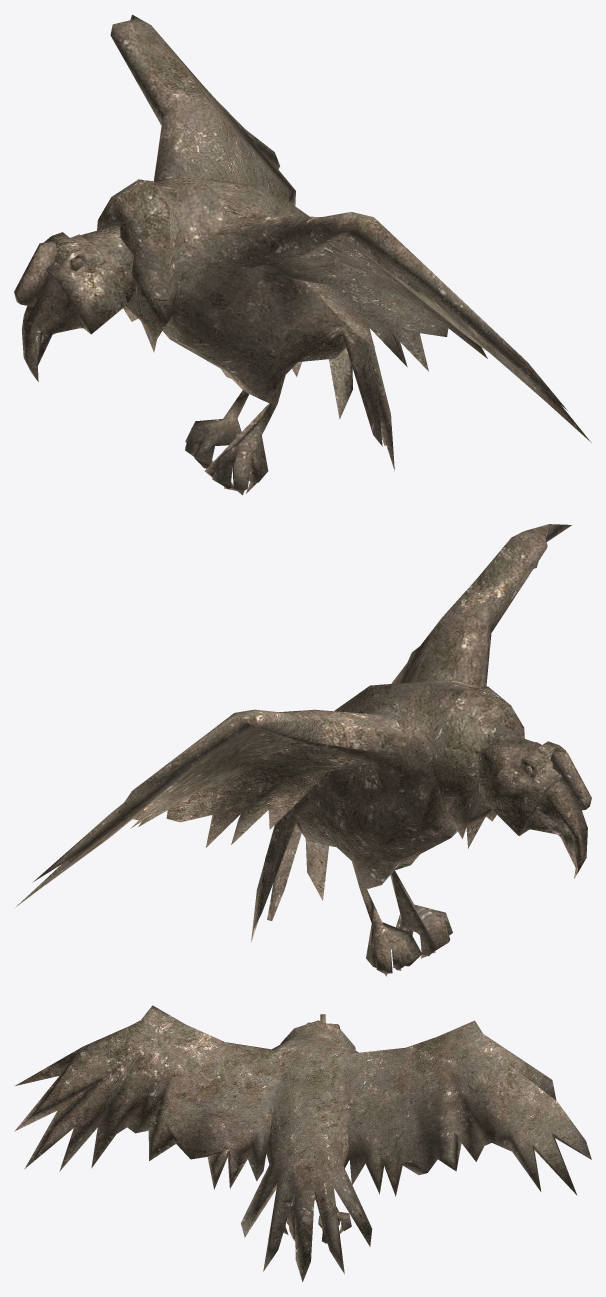
The model's file is mdl_franch_CondorInterface_BirdButton.gltf.
3 renders of one model, top to bottom at view 1: azimuth 30°, elevation 25°; view 2: azimuth 150°, elevation 25°; view 3: azimuth 270°, elevation 25°, orthographic. The views are drawn at different scales.
Parts seen in each view (by area): view 1: condor; view 2: condor; view 3: condor.
Part boxes in pixels (bbox=[...]): condor: bbox=[14, 14, 591, 495]; condor: bbox=[16, 524, 591, 976]; condor: bbox=[14, 1005, 591, 1281].
Bounding box in the file's own units: 0.52 × 0.4524 × 1.03.
Materials: 1 (1 with a texture image).
